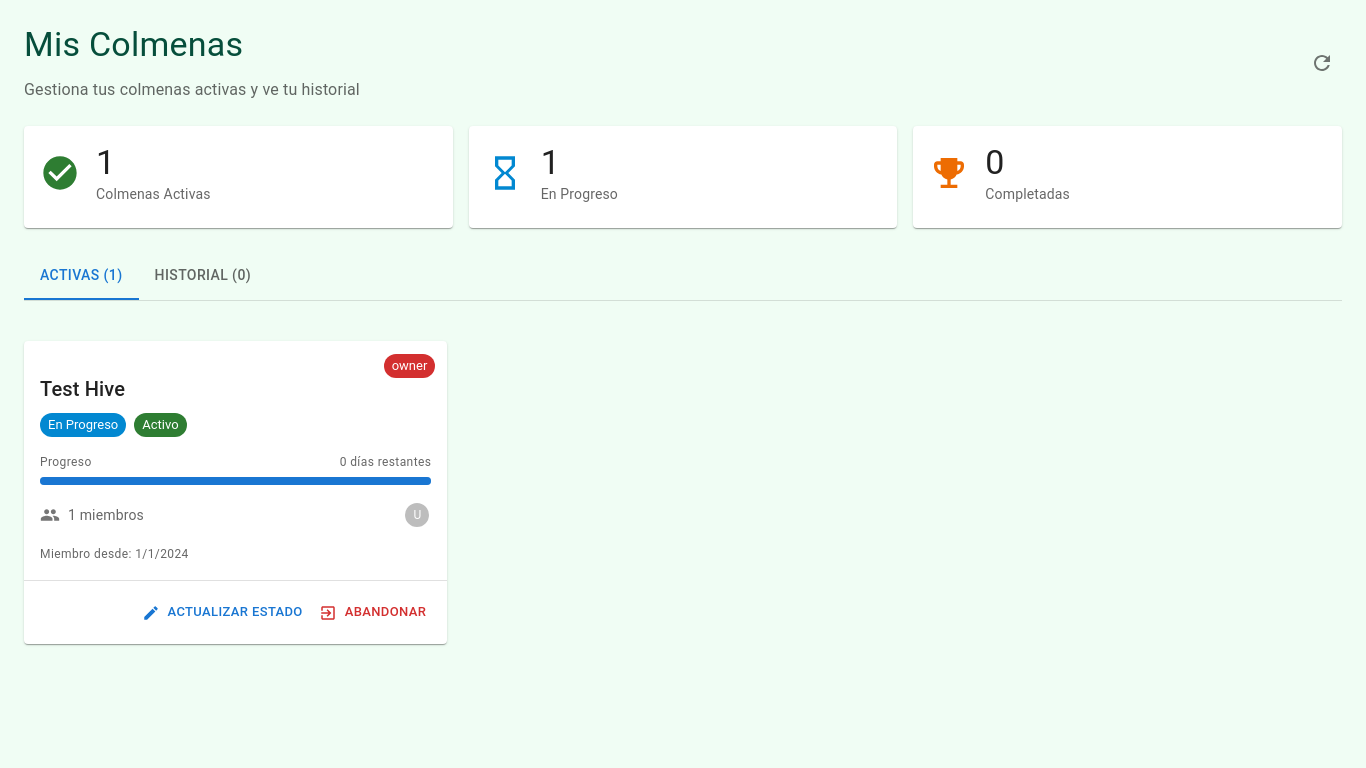
Test: MyHives Page › Update Hive Status › should open status dialog when owner clicks update status
Check: the heading "Test Hive" is shown, box [40, 377, 125, 401]
Click the button "Actualizar estado" at coordinates (223, 613), box [138, 598, 308, 628]
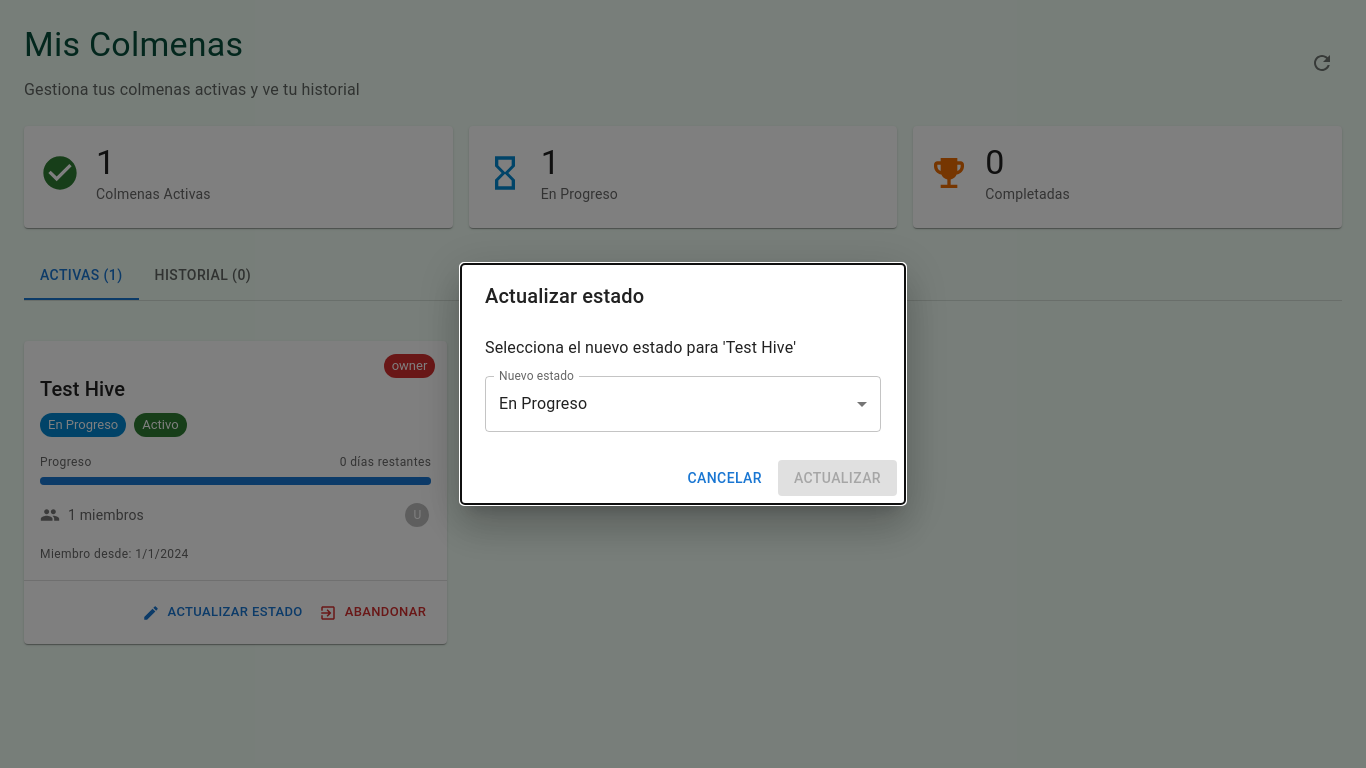
Check: the heading "Actualizar estado" is shown, box [485, 284, 644, 308]
Check: the dropdown named "Nuevo estado" is shown, box [499, 394, 587, 413]
